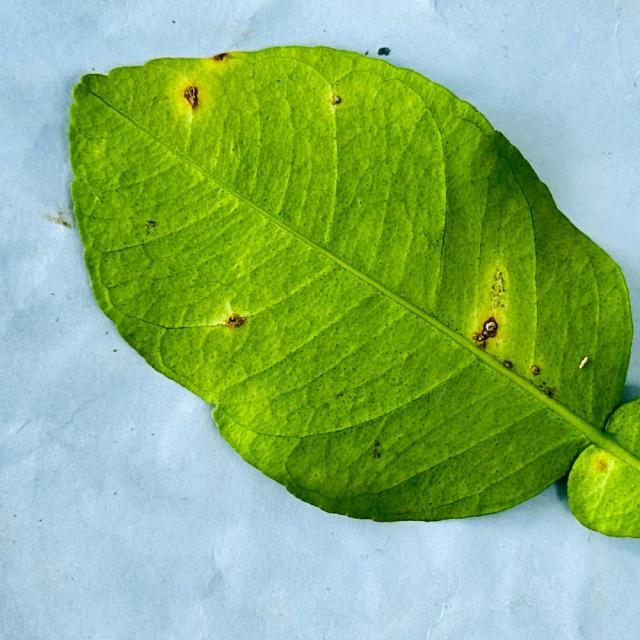Anthracnose: (177, 77, 205, 113), (471, 317, 500, 350), (41, 206, 76, 229), (223, 312, 253, 332), (490, 271, 506, 302), (329, 92, 342, 106), (210, 53, 230, 62), (579, 356, 590, 369), (502, 359, 513, 369), (531, 365, 540, 375)
Lemon: (64, 45, 639, 542)
